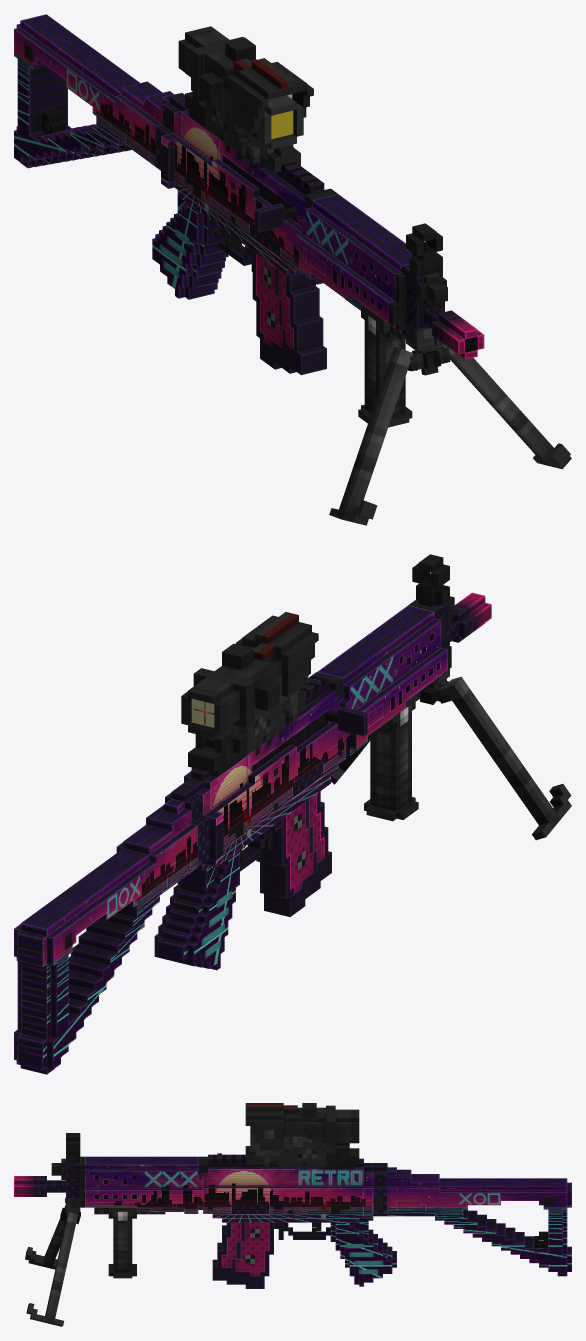
Rendered from RD_SG552_RETRO.glb.
The picture shows the model from 3 angles, top to bottom: view 1: azimuth 30°, elevation 25°; view 2: azimuth 150°, elevation 25°; view 3: azimuth 270°, elevation 25°; orthographic projection. The views are drawn at different scales.
Visible parts, largest first — view 1: SG552, SCOPE_ACOG, SG552_CLIP, DIPOD1_LEG1, GRIP1, DIPOD1_LEG2, SCOPE_TASCO, SG552_SCOPE, SCOPE_EOTECH, DIPOD1_BODY2, SG552_BOLT; view 2: SG552, SCOPE_ACOG, SG552_CLIP, DIPOD1_LEG1, GRIP1, SG552_SCOPE, SCOPE_EOTECH, SG552_BOLT, SCOPE_TASCO; view 3: SG552, SCOPE_ACOG, SG552_CLIP, GRIP1, DIPOD1_LEG2, SG552_SCOPE, SCOPE_EOTECH, SCOPE_TASCO, DIPOD1_LEG1.
Boxes of the visible parts, x1,y1,x2,y2 form: SG552: [14, 14, 484, 359]; SCOPE_ACOG: [178, 26, 313, 172]; SG552_CLIP: [252, 251, 326, 375]; DIPOD1_LEG1: [329, 347, 417, 525]; GRIP1: [345, 299, 412, 427]; DIPOD1_LEG2: [435, 344, 571, 469]; SCOPE_TASCO: [208, 88, 303, 163]; SG552_SCOPE: [185, 91, 442, 276]; SCOPE_EOTECH: [205, 100, 293, 159]; DIPOD1_BODY2: [408, 328, 450, 375]; SG552_BOLT: [254, 203, 297, 232]; SG552: [14, 592, 491, 1074]; SCOPE_ACOG: [181, 612, 318, 738]; SG552_CLIP: [256, 791, 331, 916]; DIPOD1_LEG1: [435, 676, 571, 840]; GRIP1: [364, 691, 420, 821]; SG552_SCOPE: [188, 554, 449, 776]; SCOPE_EOTECH: [227, 691, 297, 754]; SG552_BOLT: [324, 706, 367, 736]; SCOPE_TASCO: [251, 675, 308, 743]; SG552: [14, 1154, 571, 1286]; SCOPE_ACOG: [245, 1103, 359, 1164]; SG552_CLIP: [212, 1222, 273, 1288]; GRIP1: [94, 1207, 165, 1278]; DIPOD1_LEG2: [26, 1212, 77, 1326]; SG552_SCOPE: [66, 1133, 359, 1168]; SCOPE_EOTECH: [255, 1136, 325, 1166]; SCOPE_TASCO: [250, 1132, 320, 1166]; DIPOD1_LEG1: [25, 1204, 65, 1269].
Size of the model in its own units: 0.3321 by 0.4467 by 1.16.
9 materials, 9 textured.
